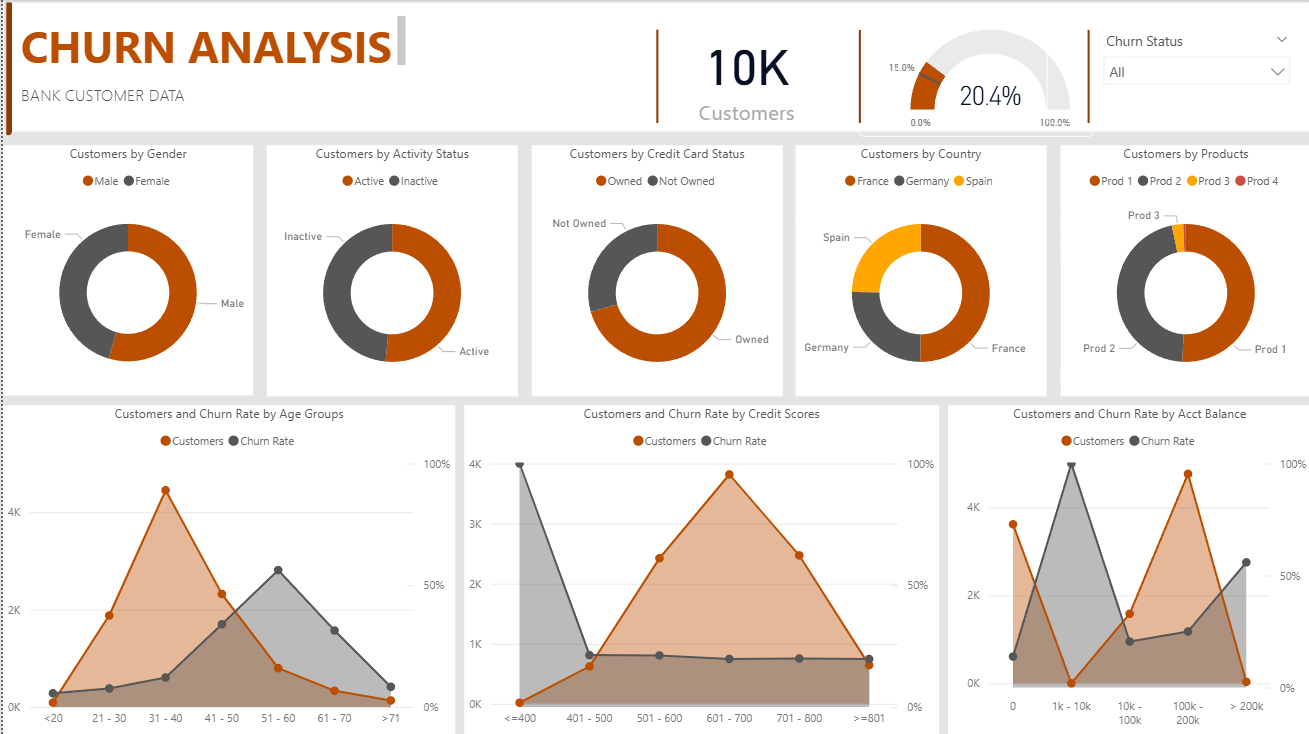

Layout of this report page (visuals, bound fields, positions):
{"tool":"powerbi","page":{"name":"Page 1","canvas":[1280,720],"ordinal":0},"visuals":[{"type":"shape","box":[0,0,1280.3,130.4],"z":0},{"type":"card","fields":{"Values":["Customer Data.Customers"]},"box":[618.9,19.2,218.2,111.1],"z":1000},{"type":"donutChart","fields":{"Category":["Customer Data.Gender"],"Y":["Customer Data.Customers"]},"box":[0,143.2,245,245],"z":2000},{"type":"donutChart","fields":{"Category":["Customer Data.Activity Status"],"Y":["Customer Data.Customers"]},"box":[258.2,142.9,245.6,245.6],"z":3000},{"type":"donutChart","fields":{"Category":["Customer Data.Credit Card Status"],"Y":["Customer Data.Customers"]},"box":[517,142.9,245.6,245.6],"z":4000},{"type":"donutChart","fields":{"Category":["Customer Data.Country"],"Y":["Customer Data.Customers"]},"box":[775.8,142.9,245.6,245.6],"z":5000},{"type":"donutChart","fields":{"Category":["Customer Data.Products"],"Y":["Customer Data.Customers"]},"box":[1034.4,142.9,245.6,245.6],"z":6000},{"type":"areaChart","fields":{"Category":["Age Groups.Age Groups"],"Y":["Customer Data.Customers"],"Y2":["Customer Data.Churn Rate"]},"box":[0,397.4,442.7,322.8],"z":7000},{"type":"areaChart","fields":{"Category":["Credit Score Groups.Credit Scores"],"Y":["Customer Data.Customers"],"Y2":["Customer Data.Churn Rate"]},"box":[451.2,397.4,464.7,322.8],"z":8000},{"type":"areaChart","fields":{"Category":["Acct Balance Groups.Acct Balance"],"Y":["Customer Data.Customers"],"Y2":["Customer Data.Churn Rate"]},"box":[924.5,397.4,355.8,322.8],"z":9000},{"type":"slicer","fields":{"Values":["Customer Data.Churn Status"]},"box":[1066.2,27.3,203.1,101.5],"z":10000},{"type":"gauge","fields":{"Y":["Customer Data.Churn Rate"],"MinValue":["Min(Customer Data.Min Churn Rate)"],"MaxValue":["Max(Customer Data.Max Churn Rate)"],"TargetValue":["Max(Customer Data.Target Churn Rate)"]},"box":[837.1,21.8,229.2,112.5],"z":11000},{"type":"textbox","box":[9.8,8.6,390.1,66],"z":12000},{"type":"textbox","box":[9.8,74.6,390.1,35.5],"z":13000},{"type":"shape","box":[587,26.9,103.9,95.4],"z":14000},{"type":"shape","box":[797.3,26.9,79.5,95.4],"z":15000},{"type":"shape","box":[1021.1,26.9,79.5,95.4],"z":16000},{"type":"shape","box":[0,0,9.8,134.5],"z":17000}]}

Visuals, with their boxes in screenshot pixels (x1, y1, x2, y2), scaled from the page's 1280x720 canvas onto the 1309x734 screenshot:
shape: Rect(0, 0, 1308, 133)
card - Customer Data.Customers: Rect(633, 20, 856, 133)
donutChart - Customer Data.Gender x Customer Data.Customers: Rect(0, 146, 251, 396)
donutChart - Customer Data.Activity Status x Customer Data.Customers: Rect(264, 146, 515, 396)
donutChart - Customer Data.Credit Card Status x Customer Data.Customers: Rect(529, 146, 780, 396)
donutChart - Customer Data.Country x Customer Data.Customers: Rect(793, 146, 1045, 396)
donutChart - Customer Data.Products x Customer Data.Customers: Rect(1058, 146, 1308, 396)
areaChart - Age Groups.Age Groups x Customer Data.Customers: Rect(0, 405, 453, 733)
areaChart - Credit Score Groups.Credit Scores x Customer Data.Customers: Rect(461, 405, 937, 733)
areaChart - Acct Balance Groups.Acct Balance x Customer Data.Customers: Rect(945, 405, 1308, 733)
slicer - Customer Data.Churn Status: Rect(1090, 28, 1298, 131)
gauge - Customer Data.Churn Rate x Min(Customer Data.Min Churn Rate): Rect(856, 22, 1090, 137)
textbox: Rect(10, 9, 409, 76)
textbox: Rect(10, 76, 409, 112)
shape: Rect(600, 27, 707, 125)
shape: Rect(815, 27, 897, 125)
shape: Rect(1044, 27, 1126, 125)
shape: Rect(0, 0, 10, 137)
